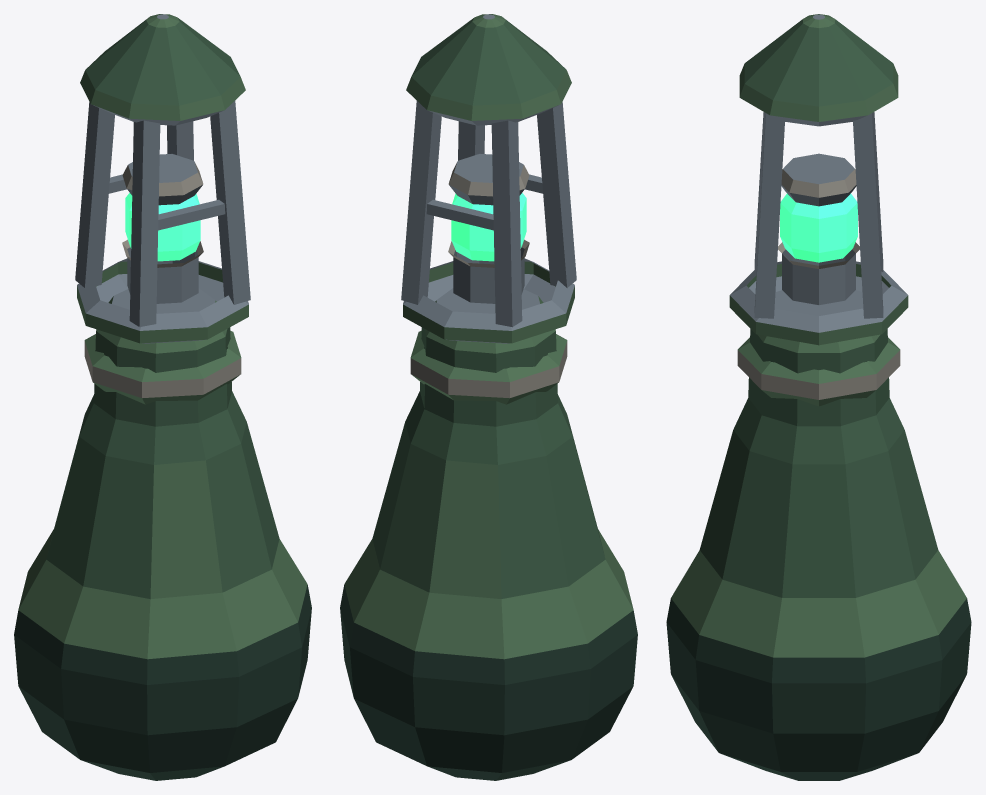
The model's file is buoy_green.glb.
3 views of the same model, side by side, from view 1: azimuth 30°, elevation 25°; view 2: azimuth 150°, elevation 25°; view 3: azimuth 270°, elevation 25° (orthographic).
Visible parts, largest first — view 1: Navigation_green; view 2: Navigation_green; view 3: Navigation_green.
Part boxes in pixels (bbox=[...]): Navigation_green: bbox=[14, 14, 311, 780]; Navigation_green: bbox=[340, 14, 637, 780]; Navigation_green: bbox=[666, 14, 971, 780].
Size of the model in its own units: 0.6562 by 1.84 by 0.69.
